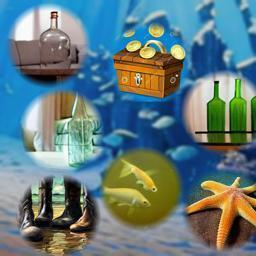not an animal: (20, 174, 95, 245), (202, 76, 256, 145), (28, 7, 76, 82), (60, 91, 96, 169)
treasure: (112, 23, 185, 102)
